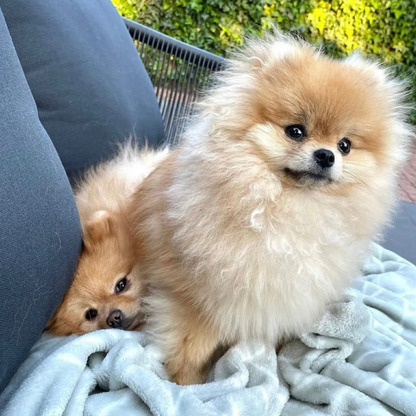Pomeranian: (51, 22, 400, 359)
